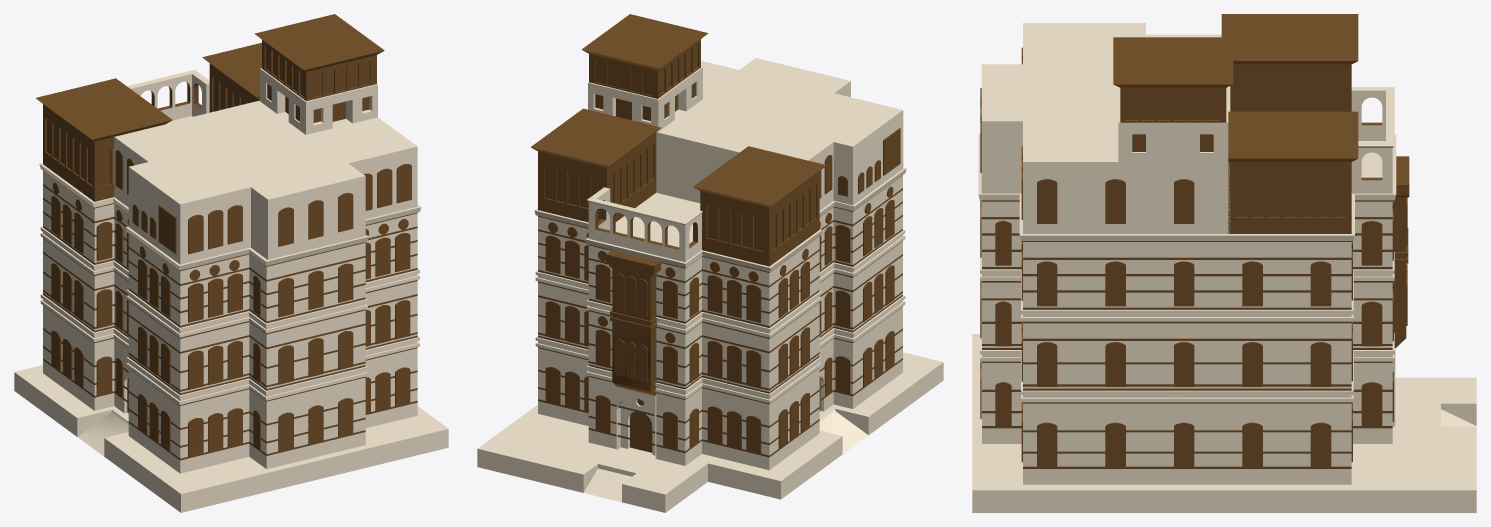
Rendered from KSA-07-tex.glb.
3 views of the same model, side by side, from view 1: azimuth 30°, elevation 25°; view 2: azimuth 150°, elevation 25°; view 3: azimuth 270°, elevation 25° (orthographic). The views are drawn at different scales.
Parts seen in each view (by area): view 1: body_1, window_comb, Null, GR, Boole_1, Boole_3, body_stripe, window_comb_1, Boole_2, Boole; view 2: body_1, window_comb, Null, GR, Boole_3, Boole_1, Boole_2, body_stripe, window_comb_1, body_front_extrude, Boole, entrance; view 3: body_1, Null, GR, window_comb, Boole_2, Boole_1, body_stripe, Boole_3, window_comb_1, Boole, body_front_extrude.
Part boxes in pixels (bbox=[...]): body_1: bbox=[43, 116, 417, 473]; window_comb: bbox=[39, 150, 421, 457]; Null: bbox=[113, 100, 417, 264]; GR: bbox=[14, 365, 448, 512]; Boole_1: bbox=[254, 14, 384, 134]; Boole_3: bbox=[36, 78, 172, 201]; body_stripe: bbox=[43, 171, 417, 460]; window_comb_1: bbox=[40, 226, 419, 404]; Boole_2: bbox=[202, 42, 261, 112]; Boole: bbox=[127, 69, 209, 120]; body_1: bbox=[538, 175, 902, 470]; window_comb: bbox=[534, 155, 906, 454]; Null: bbox=[656, 58, 903, 210]; GR: bbox=[477, 352, 943, 512]; Boole_3: bbox=[693, 146, 826, 266]; Boole_1: bbox=[581, 14, 708, 131]; Boole_2: bbox=[531, 108, 661, 222]; body_stripe: bbox=[538, 175, 902, 457]; window_comb_1: bbox=[535, 229, 905, 403]; body_front_extrude: bbox=[606, 250, 660, 395]; Boole: bbox=[587, 187, 702, 262]; entrance: bbox=[630, 377, 820, 452]; body_1: bbox=[982, 141, 1395, 484]; Null: bbox=[981, 23, 1230, 233]; GR: bbox=[972, 334, 1476, 512]; window_comb: bbox=[978, 47, 1407, 467]; Boole_2: bbox=[1228, 111, 1358, 233]; Boole_1: bbox=[1113, 37, 1233, 161]; body_stripe: bbox=[982, 200, 1392, 468]; Boole_3: bbox=[1221, 14, 1358, 111]; window_comb_1: bbox=[980, 211, 1394, 402]; Boole: bbox=[1351, 87, 1394, 193]; body_front_extrude: bbox=[1392, 156, 1409, 347].
Bounding box in the file's own units: 27.05 × 34.3 × 36.86.
